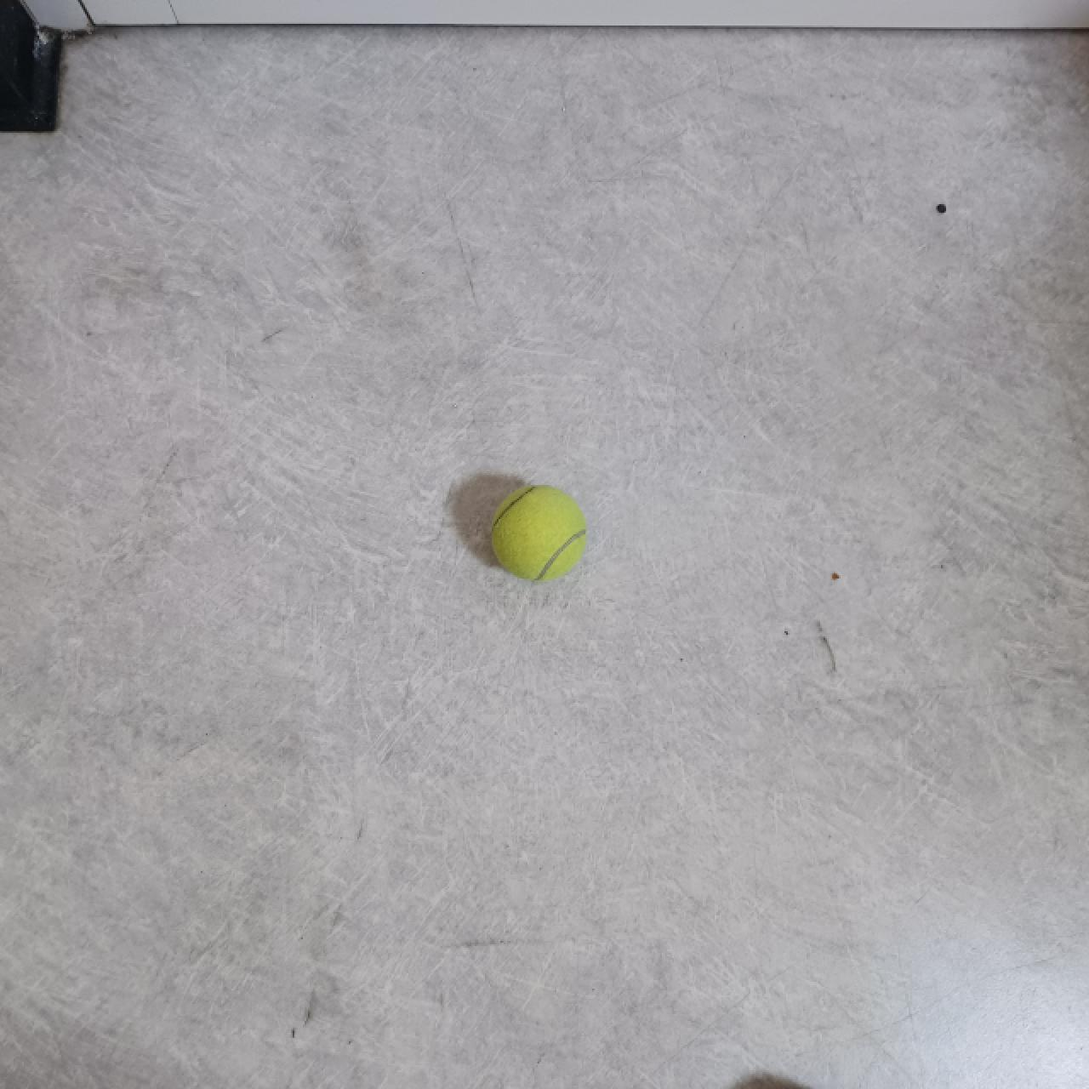tennis-ball: (488, 482, 590, 586)
